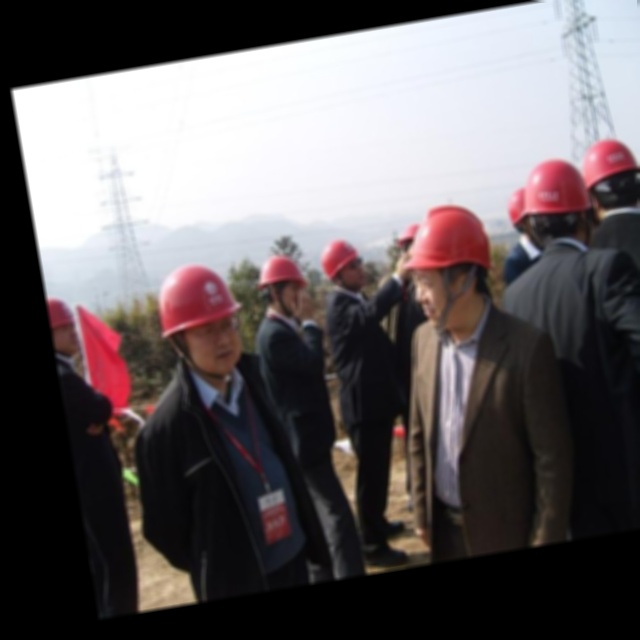Con_Casco: (400, 198, 501, 330), (152, 260, 249, 382)
